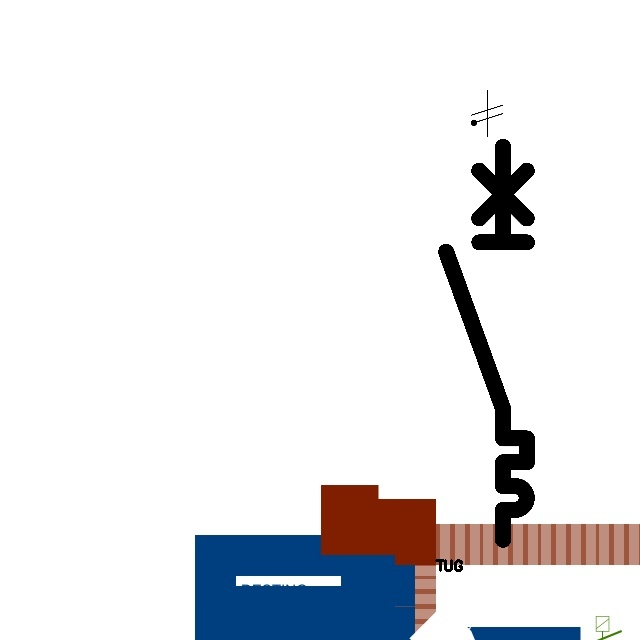interruptor_termomagnetico: (436, 136, 537, 549)
